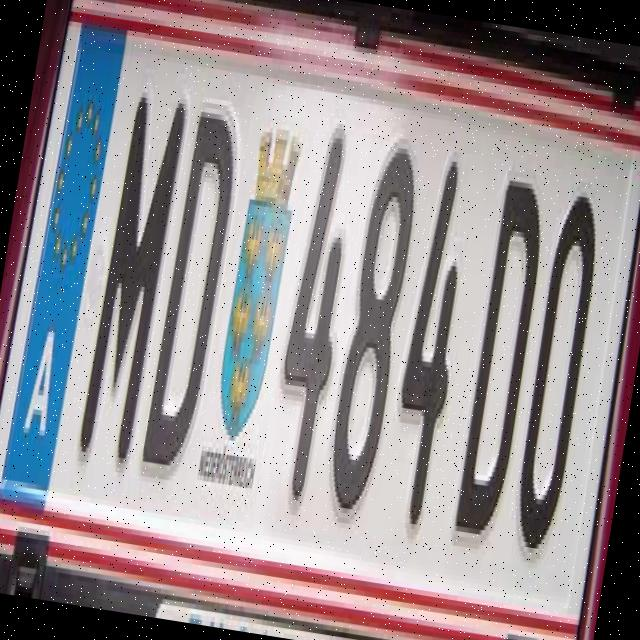Autriche: (0, 0, 132, 504)
EU: (0, 0, 640, 640)
